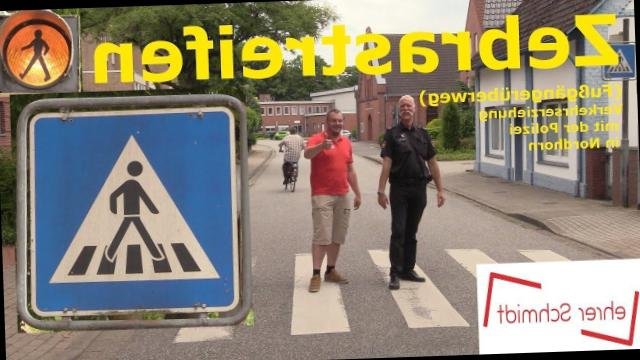crosswalk-sign: (17, 95, 252, 328)
